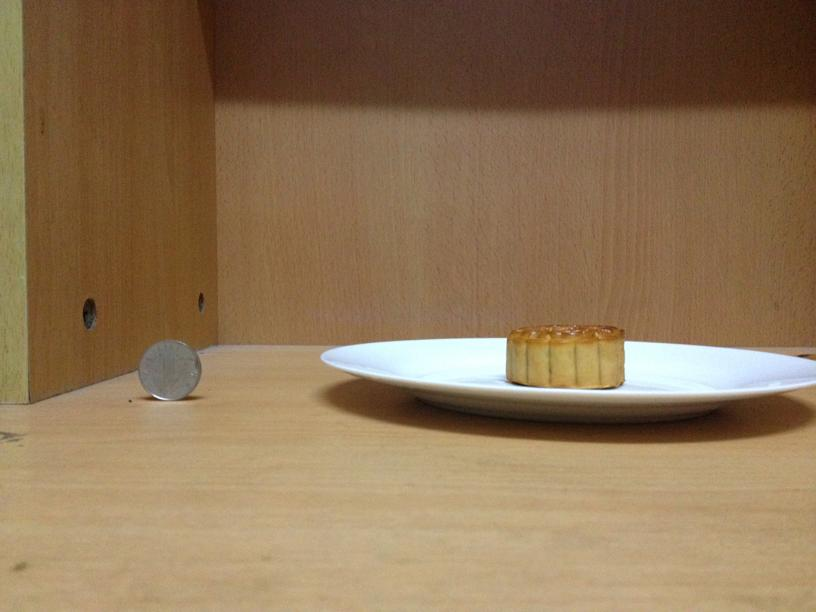coin: (140, 339, 201, 401)
mooncake: (507, 324, 626, 387)
